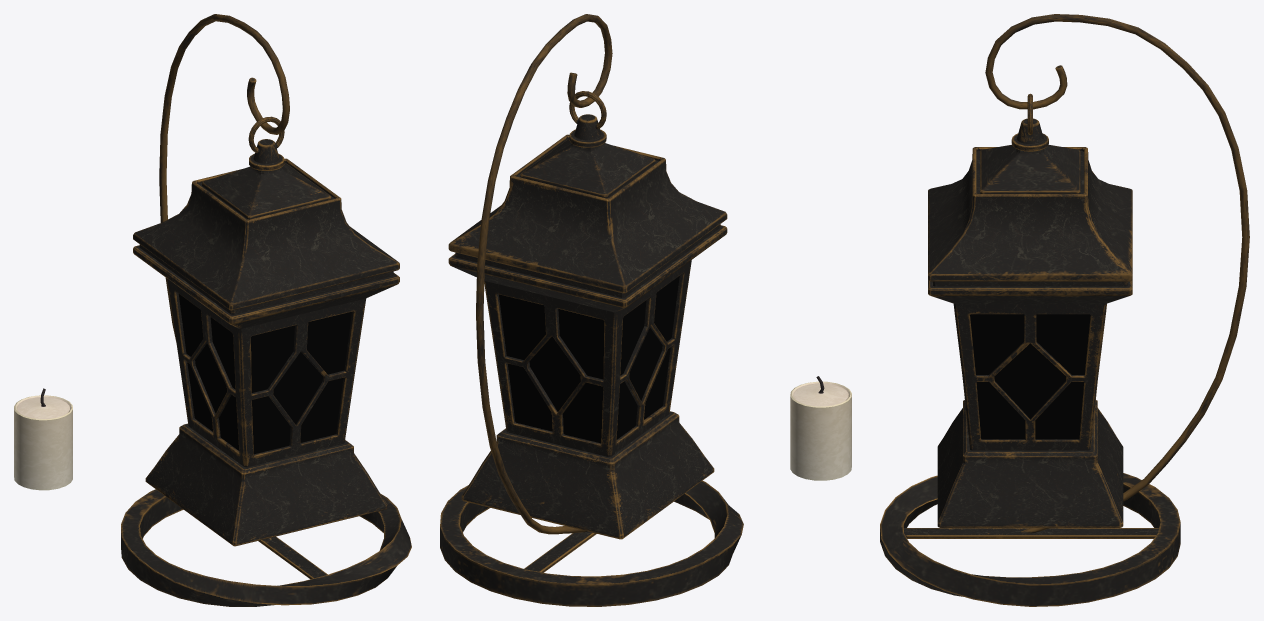
The model's file is rantan_kansei.fbx.
3 renders of one model, left to right at view 1: azimuth 30°, elevation 25°; view 2: azimuth 150°, elevation 25°; view 3: azimuth 270°, elevation 25°, orthographic. The views are drawn at different scales.
Parts seen in each view (by area): view 1: rantan1, rousoku2; view 2: rantan1, rousoku2; view 3: rantan1.
Part boxes in pixels (<box>): rantan1: <box>121,14,411,606</box>; rousoku2: <box>14,388,72,490</box>; rantan1: <box>440,14,743,606</box>; rousoku2: <box>790,376,851,480</box>; rantan1: <box>880,14,1249,606</box>.
Bounding box in the file's own units: 24.04 × 31.73 × 19.92.
